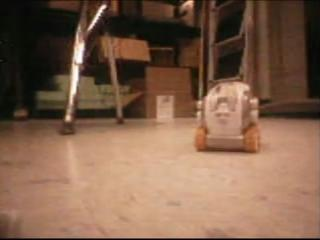cozmo: (193, 79, 260, 153)
